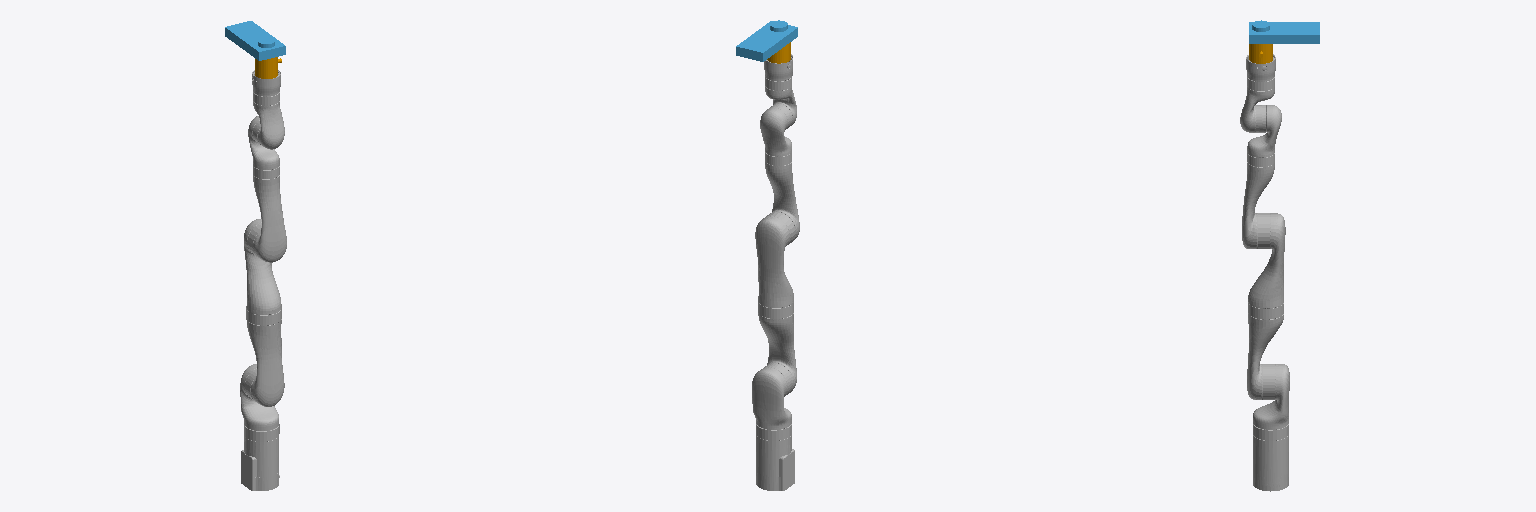
robot.urdf — kinova:
<?xml version='1.0' encoding='utf-8'?>
<robot name="kinova" version="1.0">
  <link name="link0">
    <inertial>
      <origin xyz="-0.000648 -0.000166 0.084487" rpy="0 0 0" />
      <mass value="1.697" />
      <inertia ixx="0.004622" ixy="0.000009" ixz="0.000060" iyy="0.004495" iyz="0.000009" izz="0.002079" />
    </inertial>
    <visual>
      <origin xyz="0 0 0" rpy="0 0 0" />
      <geometry>
        <mesh filename="../../../urdf_models/mmp_panda/meshes/base_link.obj" />
      </geometry>
      <material name="">
        <color rgba="0.75294 0.75294 0.75294 1" />
      </material>
    </visual>
    <!-- <collision>
      <origin xyz="0 0 0" rpy="0 0 0" />
      <geometry>
        <mesh filename="../../../urdf_models/mmp_panda/meshes/base_link.obj" />
      </geometry>
    </collision> -->
  </link>

  <link name="link1">
    <inertial>
      <origin xyz="-0.000023 -0.010364 -0.073360" rpy="0 0 0" />
      <mass value="1.377" />
      <inertia ixx="0.004570" ixy="0.000001" ixz="0.000002" iyy="0.004831" iyz="0.000448" izz="0.001409" />
    </inertial>
    <visual>
      <origin xyz="0 0 0" rpy="0 0 0" />
      <geometry>
        <mesh filename="../../../urdf_models/mmp_panda/meshes/Shoulder_Link.obj" />
      </geometry>
      <material name="">
        <color rgba="0.75294 0.75294 0.75294 1" />
      </material>
    </visual>
    <!-- <collision>
      <origin xyz="0 0 0" rpy="0 0 0" />
      <geometry>
        <mesh filename="../../../urdf_models/mmp_panda/meshes/Shoulder_Link.obj" />
      </geometry>
    </collision> -->
  </link>

  <link name="link2">
    <inertial>
      <origin xyz="-0.000044 -0.099580 -0.013278" rpy="0 0 0" />
      <mass value="1.1636" />
      <inertia ixx="0.011088" ixy="0.000005" ixz="0.0" iyy="0.001072" iyz="-0.000691" izz="0.011255" />
    </inertial>
    <visual>
      <origin xyz="0 0 0" rpy="0 0 0" />
      <geometry>
        <mesh filename="../../../urdf_models/mmp_panda/meshes/HalfArm1_Link.obj" />
      </geometry>
      <material name="">
        <color rgba="0.75294 0.75294 0.75294 1" />
      </material>
    </visual>
    <!-- <collision>
      <origin xyz="0 0 0" rpy="0 0 0" />
      <geometry>
        <mesh filename="../../../urdf_models/mmp_panda/meshes/HalfArm1_Link.obj" />
      </geometry>
    </collision> -->
  </link>

  <link name="link3">
    <inertial>
      <origin xyz="-0.000044 -0.006641 -0.117892" rpy="0 0 0" />
      <mass value="1.1636" />
      <inertia ixx="0.010932" ixy="0.0" ixz="-0.000007" iyy="0.011127" iyz="0.000606" izz="0.001043" />
    </inertial>
    <visual>
      <origin xyz="0 0 0" rpy="0 0 0" />
      <geometry>
        <mesh filename="../../../urdf_models/mmp_panda/meshes/HalfArm2_Link.obj" />
      </geometry>
      <material name="">
        <color rgba="0.75294 0.75294 0.75294 1" />
      </material>
    </visual>
    <!-- <collision>
      <origin xyz="0 0 0" rpy="0 0 0" />
      <geometry>
        <mesh filename="../../../urdf_models/mmp_panda/meshes/HalfArm2_Link.obj" />
      </geometry>
    </collision> -->
  </link>

  <link name="link4">
    <inertial>
      <origin xyz="-0.000018 -0.075478 -0.015006" rpy="0 0 0" />
      <mass value="0.93" />
      <inertia ixx="0.008147" ixy="-0.000001" ixz="0.0" iyy="0.000631" iyz="-0.000500" izz="0.008316" />
    </inertial>
    <visual>
      <origin xyz="0 0 0" rpy="0 0 0" />
      <geometry>
        <mesh filename="../../../urdf_models/mmp_panda/meshes/ForeArm_Link.obj" />
      </geometry>
      <material name="">
        <color rgba="0.75294 0.75294 0.75294 1" />
      </material>
    </visual>
    <collision>
      <origin xyz="0 0 0" rpy="0 0 0" />
      <geometry>
        <mesh filename="../../../urdf_models/mmp_panda/meshes/ForeArm_Link.obj" />
      </geometry>
    </collision>
  </link>

  <link name="link5">
    <inertial>
      <origin xyz="0.000001 -0.009432 -0.063883" rpy="0 0 0" />
      <mass value="0.678" />
      <inertia ixx="0.001596" ixy="0.0" ixz="0.0" iyy="0.001607" iyz="0.000256" izz="0.000399" />
    </inertial>
    <visual>
      <origin xyz="0 0 0" rpy="0 0 0" />
      <geometry>
        <mesh filename="../../../urdf_models/mmp_panda/meshes/SphericalWrist1_Link.obj" />
      </geometry>
      <material name="">
        <color rgba="0.75294 0.75294 0.75294 1" />
      </material>
    </visual>
    <collision>
      <origin xyz="0 0 0" rpy="0 0 0" />
      <geometry>
        <mesh filename="../../../urdf_models/mmp_panda/meshes/SphericalWrist1_Link.obj" />
      </geometry>
    </collision>
  </link>

  <link name="link6">
    <inertial>
      <origin xyz="0.000001 -0.045483 -0.009650" rpy="0 0 0" />
      <mass value="0.678" />
      <inertia ixx="0.001641" ixy="0.0" ixz="0.0" iyy="0.000410" iyz="-0.000278" izz="0.001641" />
    </inertial>
    <visual>
      <origin xyz="0 0 0" rpy="0 0 0" />
      <geometry>
        <mesh filename="../../../urdf_models/mmp_panda/meshes/SphericalWrist2_Link.obj" />
      </geometry>
      <material name="">
        <color rgba="0.75294 0.75294 0.75294 1" />
      </material>
    </visual>
    <collision>
      <origin xyz="0 0 0" rpy="0 0 0" />
      <geometry>
        <mesh filename="../../../urdf_models/mmp_panda/meshes/SphericalWrist2_Link.obj" />
      </geometry>
    </collision>
  </link>

  <link name="link7">
    <inertial>
      <origin xyz="-0.000093 0.000132 -0.022905" rpy="0 0 0" />
      <mass value="0.33" />
      <!-- <mass value="0.364" original mass /> -->
      <inertia ixx="0.000214" ixy="0.0" ixz="0.000001" iyy="0.000223" iyz="-0.000002" izz="0.000240" />
    </inertial>
    <visual>
      <origin xyz="0 0 0" rpy="0 0 0" />
      <geometry>
        <mesh filename="../../../urdf_models/mmp_panda/meshes/bracelet_no_vision_link.obj" />
      </geometry>
      <material name="">
        <color rgba="0.75294 0.75294 0.75294 1" />
      </material>
    </visual>
    <collision>
      <origin xyz="0 0 0" rpy="0 0 0" />
      <geometry>
        <mesh filename="../../../urdf_models/mmp_panda/meshes/bracelet_no_vision_link.obj" />
      </geometry>
    </collision>
  </link>

  <link name="end-effector">
    <inertial>
      <origin xyz="0 0 -0.005" rpy="0 0 0" />
      <mass value="0.386" />
      <inertia ixx="0" iyy="0.000202" izz="0.000179" ixy="0" ixz="0" iyz="0" />
    </inertial>
    <visual>
      <origin xyz="0 0 0" rpy="0 0 0" />
      <geometry>
        <cylinder radius="0.031" length="0.059" />
      </geometry>
    </visual>
    <visual>
      <origin xyz="0.037425 0 0" rpy="0 1.57079 0" />
      <geometry>
        <cylinder radius="0.00575" length="0.01285" />
      </geometry>
    </visual>
    <collision>
      <origin xyz="0 0 -0.0295" rpy="0 0 0" />
      <geometry>
        <cylinder radius="0.031" length="0.059" />
      </geometry>
    </collision>
  </link>

  <link name="stethoscope">
    <inertial>
      <origin xyz="0 -0.027 0" rpy="0 0 0" />
      <mass value="0.174" />
      <inertia ixx="0" iyy="0" izz="0" ixy="0" ixz="0" iyz="0" />
    </inertial>
    <visual>
      <origin xyz="0 -0.059 -0.013" rpy="0 0 0" />
      <geometry>
        <box size="0.08 0.18 0.026" />
      </geometry>
    </visual>
    <visual>
      <origin xyz="0 0 -0.03185" rpy="0 0 0" />
      <geometry>
        <cylinder radius="0.02275" length="0.0117" />
      </geometry>
    </visual>
    <collision>
      <origin xyz="0 0 -0.0377" rpy="0 0 0" />
      <geometry>
        <cylinder radius="0.02275" length="0.0117" />
      </geometry>
    </collision>
  </link>


  <joint name="Actuator1" type="revolute">
    <origin xyz="0 0 0.15643" rpy="3.1416 2.7629E-18 -4.9305E-36" />
    <parent link="link0" />
    <child link="link1" />
    <axis xyz="0 0 1" />
    <limit effort="39" lower="-20.8973" upper="20.8973" velocity="0.8727" />
  </joint>
  <joint name="Actuator2" type="revolute">
    <origin xyz="0 0.005375 -0.12838" rpy="1.5708 2.1343E-17 -1.1102E-16" />
    <parent link="link1" />
    <child link="link2" />
    <axis xyz="0 0 1" />
    <limit effort="39" lower="-2.41" upper="2.41" velocity="0.8727" />
  </joint>
  <joint name="Actuator3" type="revolute">
    <origin xyz="0 -0.21038 -0.006375" rpy="-1.5708 1.2326E-32 -2.9122E-16" />
    <parent link="link2" />
    <child link="link3" />
    <axis xyz="0 0 1" />
    <limit effort="39" lower="-20.8973" upper="20.8973" velocity="0.8727" />
  </joint>
  <joint name="Actuator4" type="revolute">
    <origin xyz="0 0.006375 -0.21038" rpy="1.5708 -6.6954E-17 -1.6653E-16" />
    <parent link="link3" />
    <child link="link4" />
    <axis xyz="0 0 1" />
    <limit lower="-2.66" upper="2.66" effort="39" velocity="0.8727" />
  </joint>
  <joint name="Actuator5" type="revolute">
    <origin xyz="0 -0.20843 -0.006375" rpy="-1.5708 2.2204E-16 -6.373E-17" />
    <parent link="link4" />
    <child link="link5" />
    <axis xyz="0 0 1" />
    <limit effort="9" lower="-20.8973" upper="20.8973" velocity="0.8727" />
  </joint>
  <joint name="Actuator6" type="revolute">
    <origin xyz="0 0.00017505 -0.10593" rpy="1.5708 9.2076E-28 -8.2157E-15" />
    <parent link="link5" />
    <child link="link6" />
    <axis xyz="0 0 1" />
    <limit lower="-2.23" upper="2.23" effort="9" velocity="0.8727" />
  </joint>
  <joint name="Actuator7" type="revolute">
    <origin xyz="0 -0.10593 -0.00017505" rpy="-1.5708 -5.5511E-17 9.6396E-17" />
    <parent link="link6" />
    <child link="link7" />
    <axis xyz="0 0 1" />
    <limit effort="9" lower="-20.8973" upper="20.8973" velocity="0.8727" />
  </joint>
  <joint name="joint_ee" type="fixed">
    <origin xyz="0 0 -0.091" />
    <parent link="link7" />
    <child link="end-effector" />
  </joint>
  <joint name="force_sensor_end" type="fixed">
    <origin xyz="0 0 -0.0295" />
    <parent link="end-effector" />
    <child link="stethoscope" />
  </joint>
</robot>

--- Facts derived from the render (not from the file) ---
The picture shows the robot from 3 angles, left to right: view 1: azimuth 30°, elevation 25°; view 2: azimuth 150°, elevation 25°; view 3: azimuth 270°, elevation 25°; orthographic projection.
Model kinova with 10 links and 9 joints (7 revolute, 2 fixed), rooted at link0, posed all joints at 0.
Links seen in each view (by area): view 1: link2, link4, link0, link3, stethoscope, link1, link6, link5, link7; view 2: link3, link0, link1, link2, link4, stethoscope, link5, link6; view 3: link3, link0, link2, link1, link4, stethoscope, link5, link6, link7.
Boxes of the visible links, bbox=[...] form: link2: bbox=[246, 308, 284, 406]; link4: bbox=[253, 166, 286, 262]; link0: bbox=[241, 424, 279, 490]; link3: bbox=[244, 219, 281, 314]; stethoscope: bbox=[225, 21, 285, 60]; link1: bbox=[240, 364, 278, 430]; link6: bbox=[253, 92, 284, 149]; link5: bbox=[248, 116, 279, 169]; link7: bbox=[252, 70, 280, 96]; link3: bbox=[755, 212, 795, 307]; link0: bbox=[756, 424, 794, 490]; link1: bbox=[752, 363, 792, 429]; link2: bbox=[758, 302, 796, 392]; link4: bbox=[765, 152, 799, 242]; stethoscope: bbox=[736, 20, 797, 61]; link5: bbox=[760, 104, 792, 156]; link6: bbox=[765, 77, 796, 125]; link3: bbox=[1248, 213, 1285, 308]; link0: bbox=[1253, 424, 1288, 491]; link2: bbox=[1247, 302, 1283, 399]; link1: bbox=[1253, 364, 1289, 429]; link4: bbox=[1242, 152, 1274, 248]; stethoscope: bbox=[1249, 20, 1319, 43]; link5: bbox=[1247, 105, 1281, 157]; link6: bbox=[1240, 77, 1274, 132]; link7: bbox=[1246, 54, 1275, 81].
Size in the robot's own frame: 0.0928 by 0.2021 by 1.28 metres.
8 mesh visuals loaded from 8 distinct referenced files (8 OBJ).
